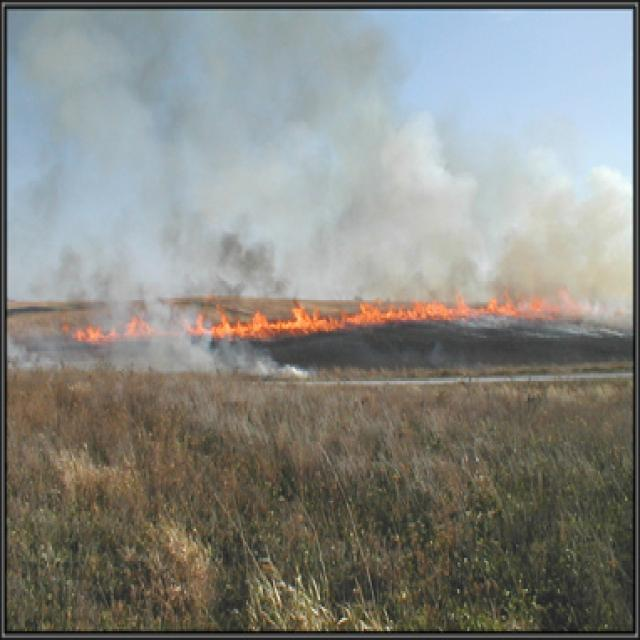Fire: (57, 277, 632, 363)
Smoke: (8, 9, 486, 300), (7, 206, 324, 384), (488, 150, 640, 306)
